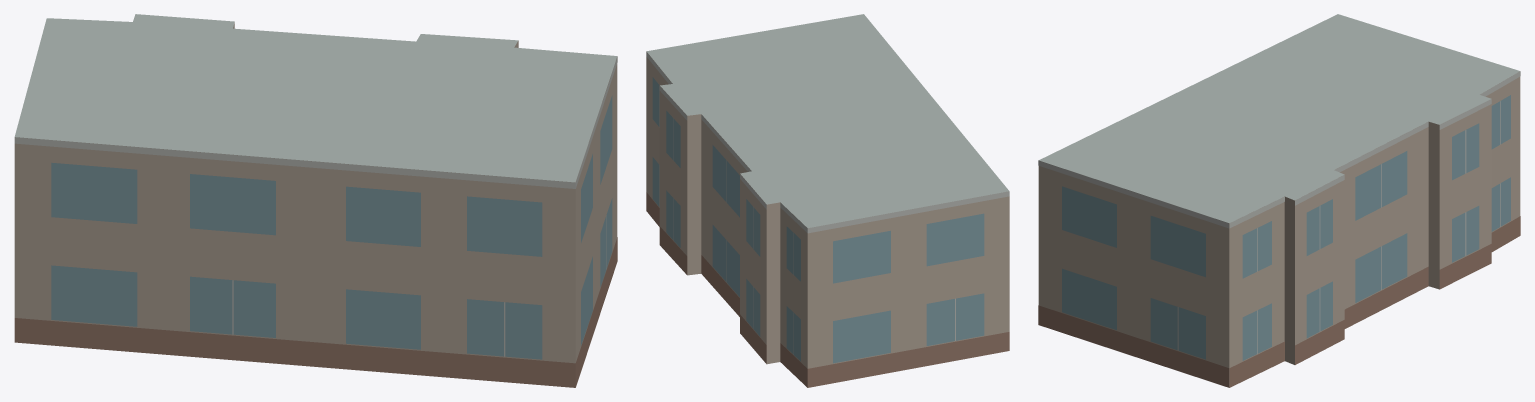
File: survey-upis-32470127.glb
3 views of the same model, side by side, from view 1: azimuth 30°, elevation 25°; view 2: azimuth 150°, elevation 25°; view 3: azimuth 270°, elevation 25° (orthographic). The views are drawn at different scales.
Visible parts, largest first — view 1: survey-upis-32470127.tmp; view 2: survey-upis-32470127.tmp; view 3: survey-upis-32470127.tmp.
Part boxes in pixels (box(x1,y1,x2,y2)): survey-upis-32470127.tmp: box(14, 14, 617, 387); survey-upis-32470127.tmp: box(646, 14, 1009, 387); survey-upis-32470127.tmp: box(1038, 14, 1520, 387).
Size of the model in its own units: 20.73 by 7.6 by 20.17.
